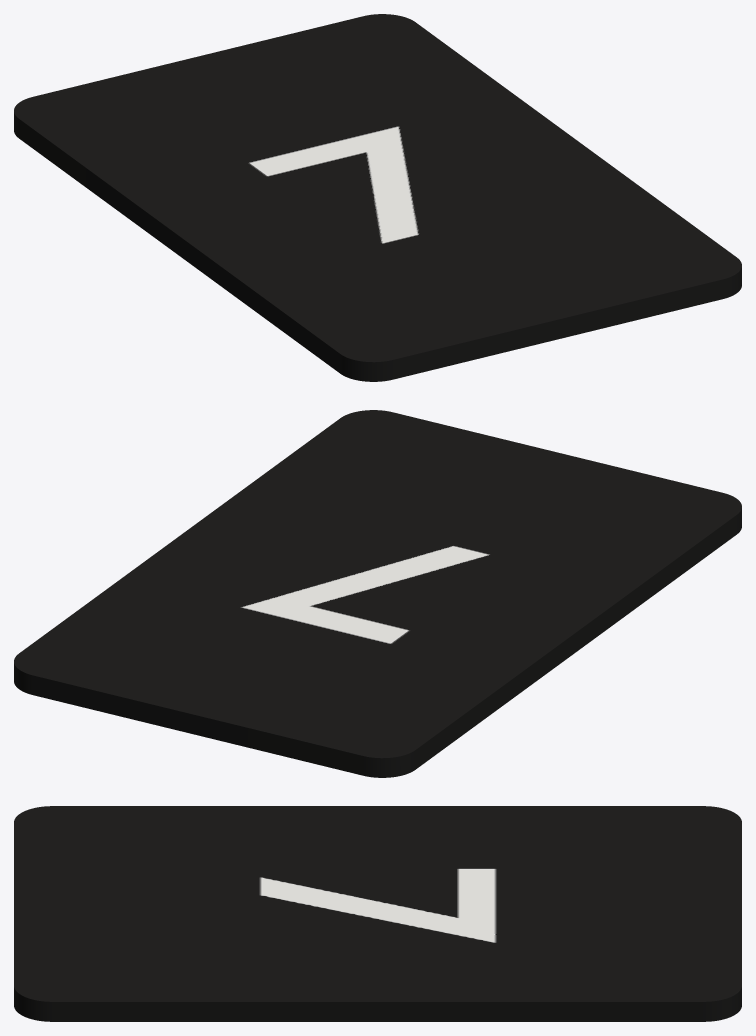
File: black_7.glb
3 renders of one model, top to bottom at view 1: azimuth 30°, elevation 25°; view 2: azimuth 150°, elevation 25°; view 3: azimuth 270°, elevation 25°, orthographic.
Parts seen in each view (by area): view 1: black_7; view 2: black_7; view 3: black_7.
Boxes of the visible parts, x1,y1,x2,y2 form: black_7: (14,14,741,381); black_7: (14,410,741,777); black_7: (14,806,741,1021).
Size of the model in its own units: 0.042 by 0.002 by 0.066.
2 materials, 1 textured.
